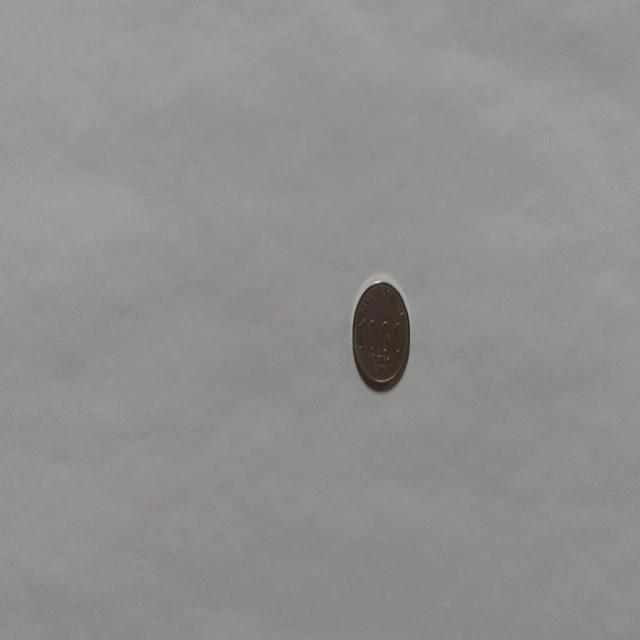seribu rupiah koin: (350, 274, 410, 392)
